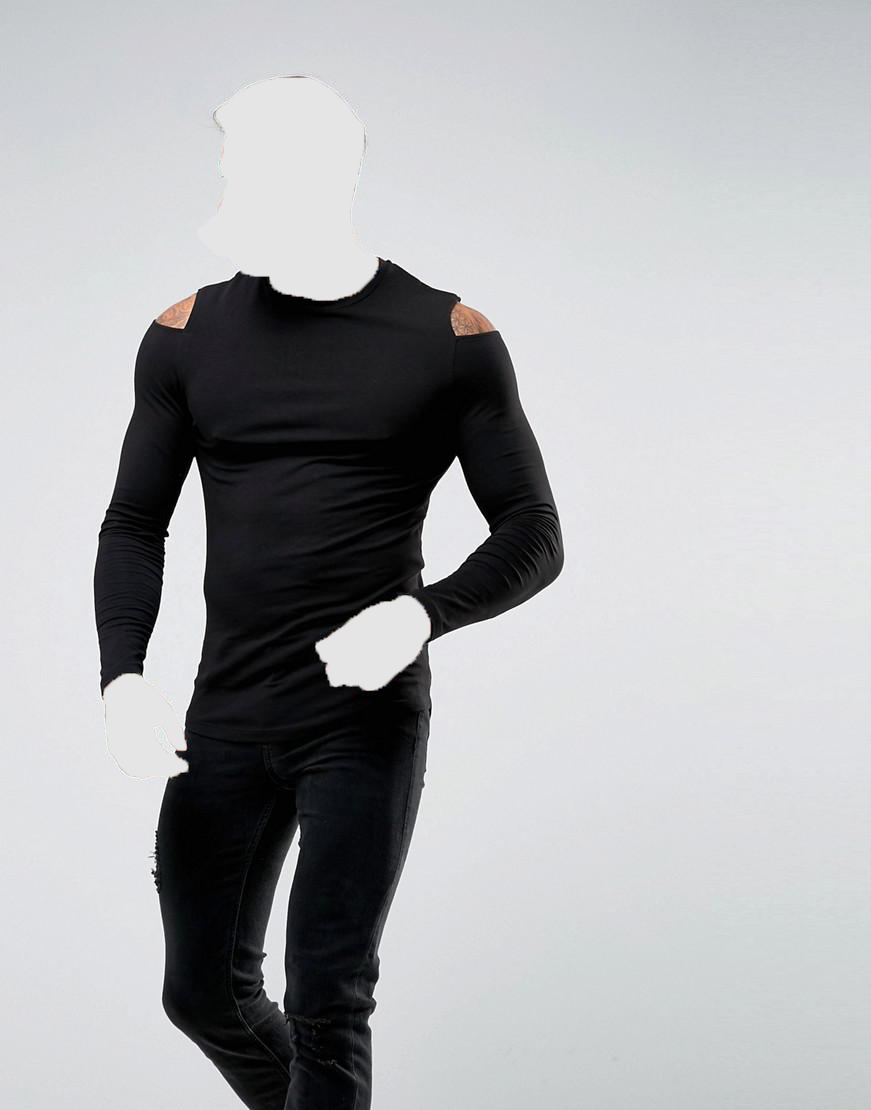teeshirt: (79, 259, 569, 785)
